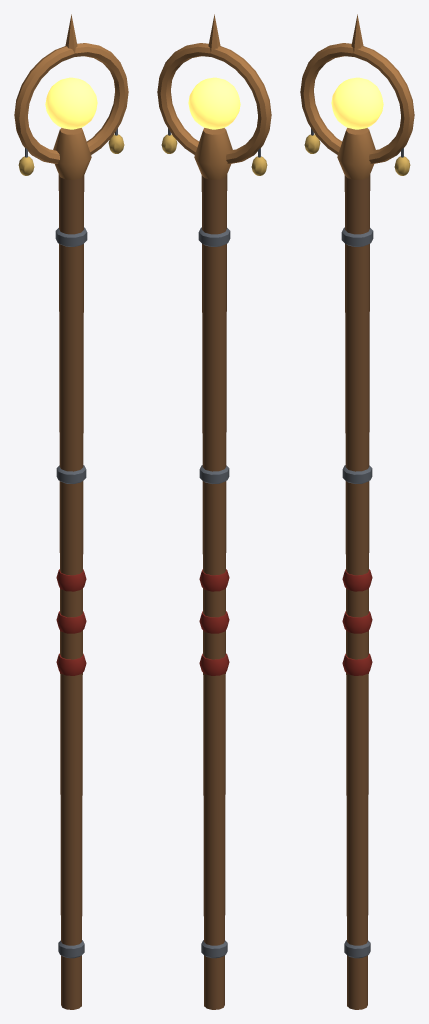
File: staff_ritual.glb
3 views of the same model, side by side, from view 1: azimuth 30°, elevation 25°; view 2: azimuth 150°, elevation 25°; view 3: azimuth 330°, elevation 25° (orthographic).
Visible parts, largest first — view 1: staff_ritual; view 2: staff_ritual; view 3: staff_ritual.
Boxes of the visible parts, left/top/right/bottom form: staff_ritual: left=14, top=14, right=128, bottom=1009; staff_ritual: left=157, top=14, right=271, bottom=1009; staff_ritual: left=300, top=14, right=414, bottom=1009.
Bounding box in the file's own units: 0.224 × 1.88 × 0.0877.
